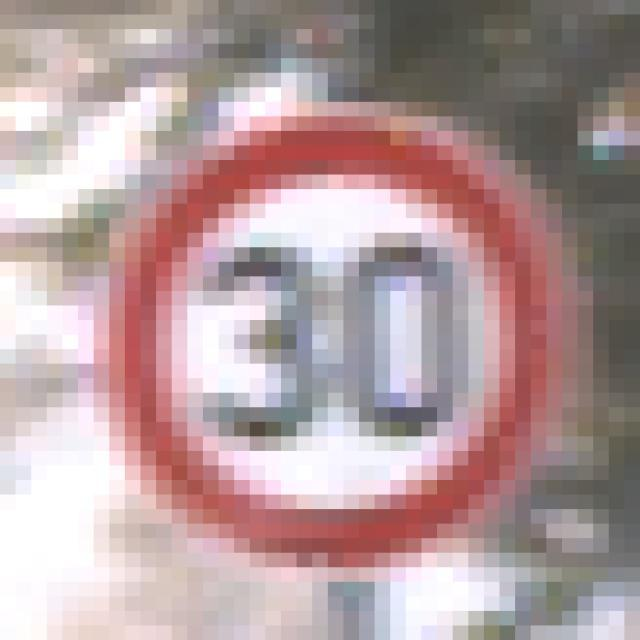Speed Limit -30-: (70, 80, 539, 546)
